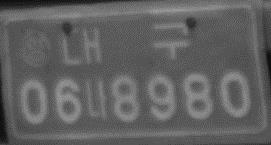0: (218, 70, 252, 118), (18, 77, 50, 127)
6: (53, 77, 83, 124)
8: (111, 73, 141, 124), (183, 72, 214, 121)
9: (145, 74, 179, 120)
나: (84, 77, 109, 123)
대구_D: (60, 20, 192, 67)
영: (18, 29, 54, 67)
